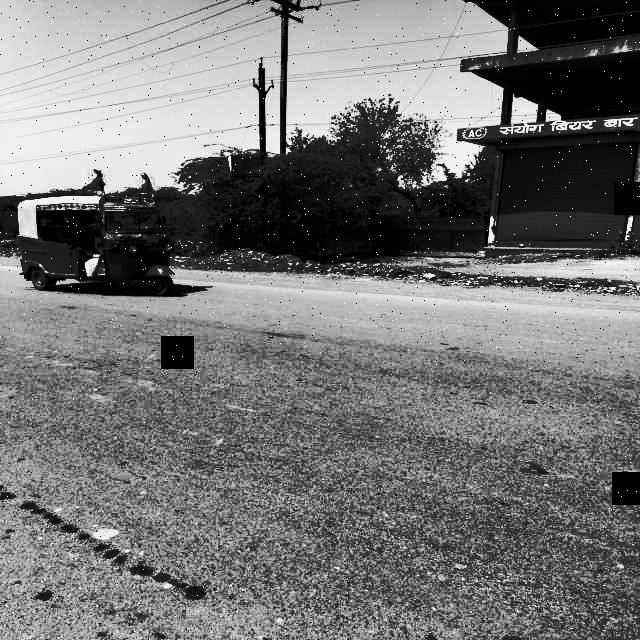Auto-Rickshaw: (9, 187, 183, 306)
